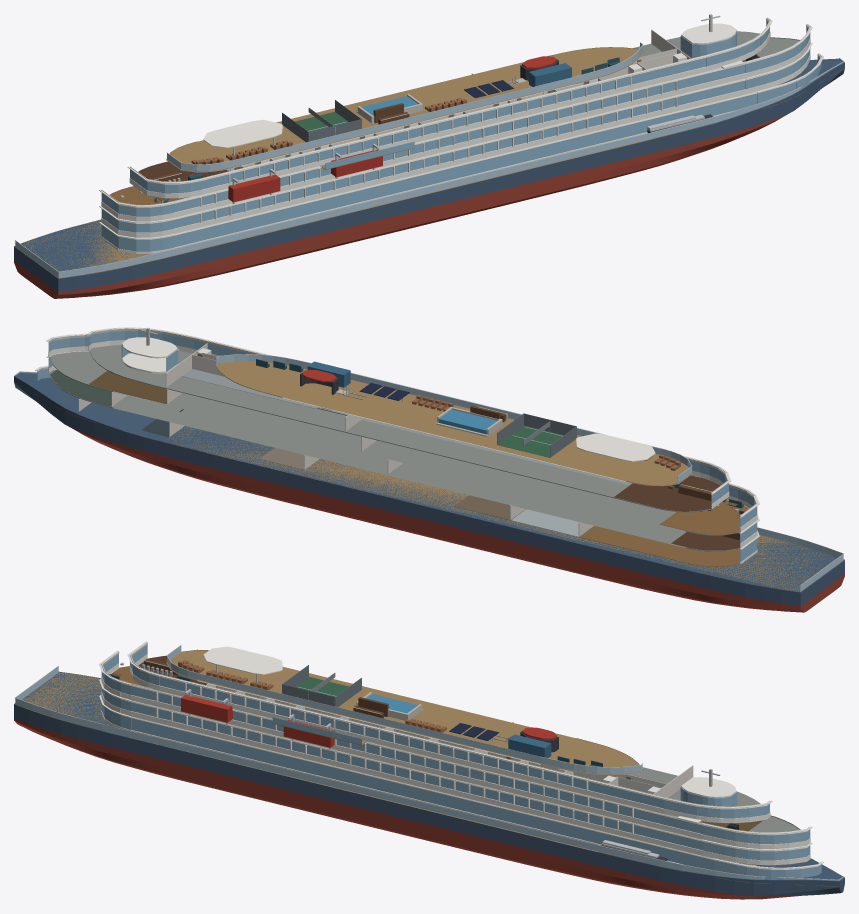
File: vessel_cutaway.glb
3 renders of one model, top to bottom at view 1: azimuth 30°, elevation 25°; view 2: azimuth 150°, elevation 25°; view 3: azimuth 330°, elevation 25°, orthographic.
Visible parts, largest first — view 1: vessel_cutaway (×17); view 2: vessel_cutaway (×23); view 3: vessel_cutaway (×15).
Boxes of the visible parts, x1,y1,x2,y2 form: vessel_cutaway (×17): (14,14,844,298); vessel_cutaway (×23): (14,327,844,612); vessel_cutaway (×15): (14,641,844,899).
Size of the model in its own units: 141 by 19.42 by 16.8.
